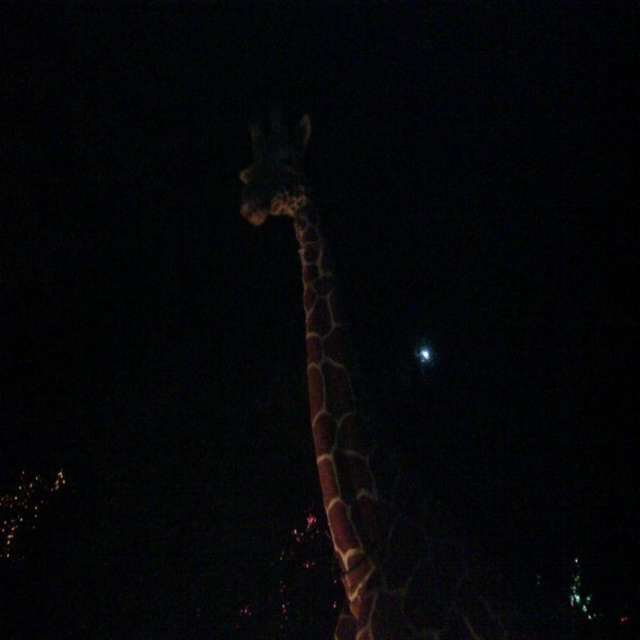Giraffe: (230, 99, 390, 603)
